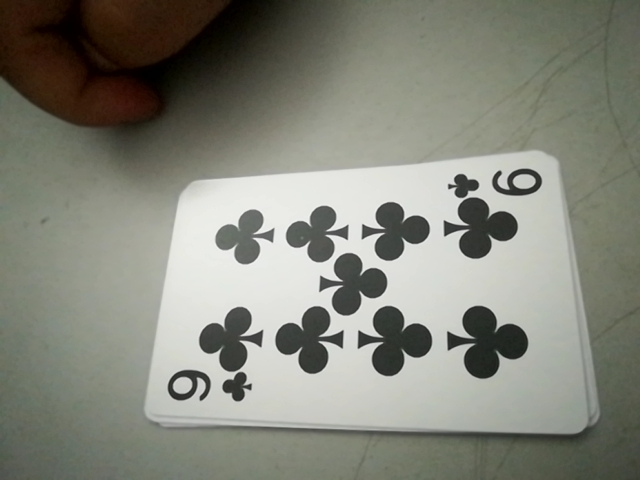mh 9: (158, 363, 255, 415), (446, 160, 550, 203)
